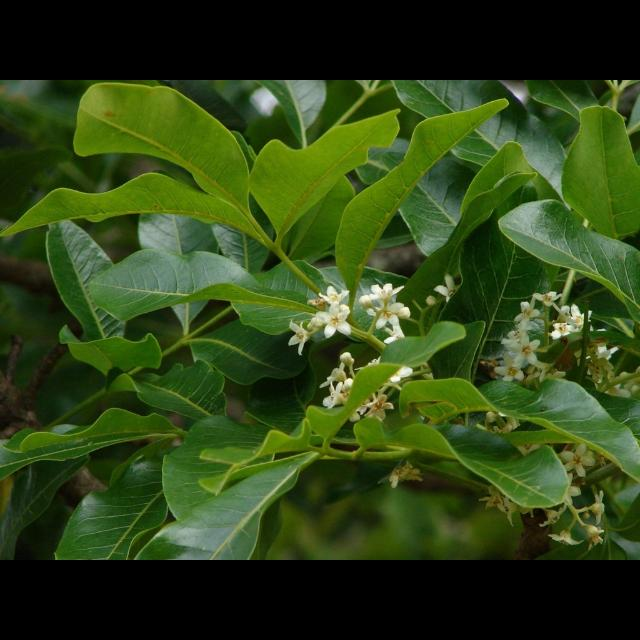Flower: (478, 414, 604, 548), (490, 290, 640, 400), (318, 352, 412, 420), (296, 283, 370, 353), (356, 283, 410, 343), (286, 322, 310, 354), (435, 274, 463, 300), (320, 283, 348, 303), (420, 362, 434, 380)
